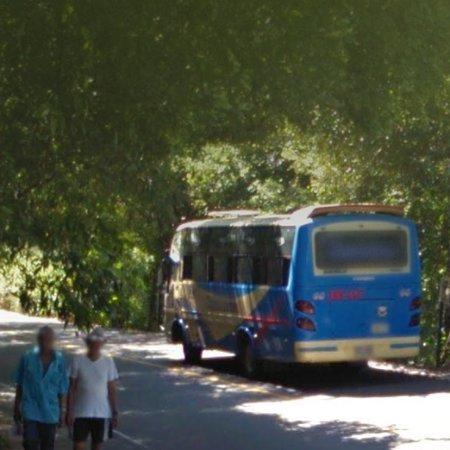buses: (164, 205, 422, 374)
